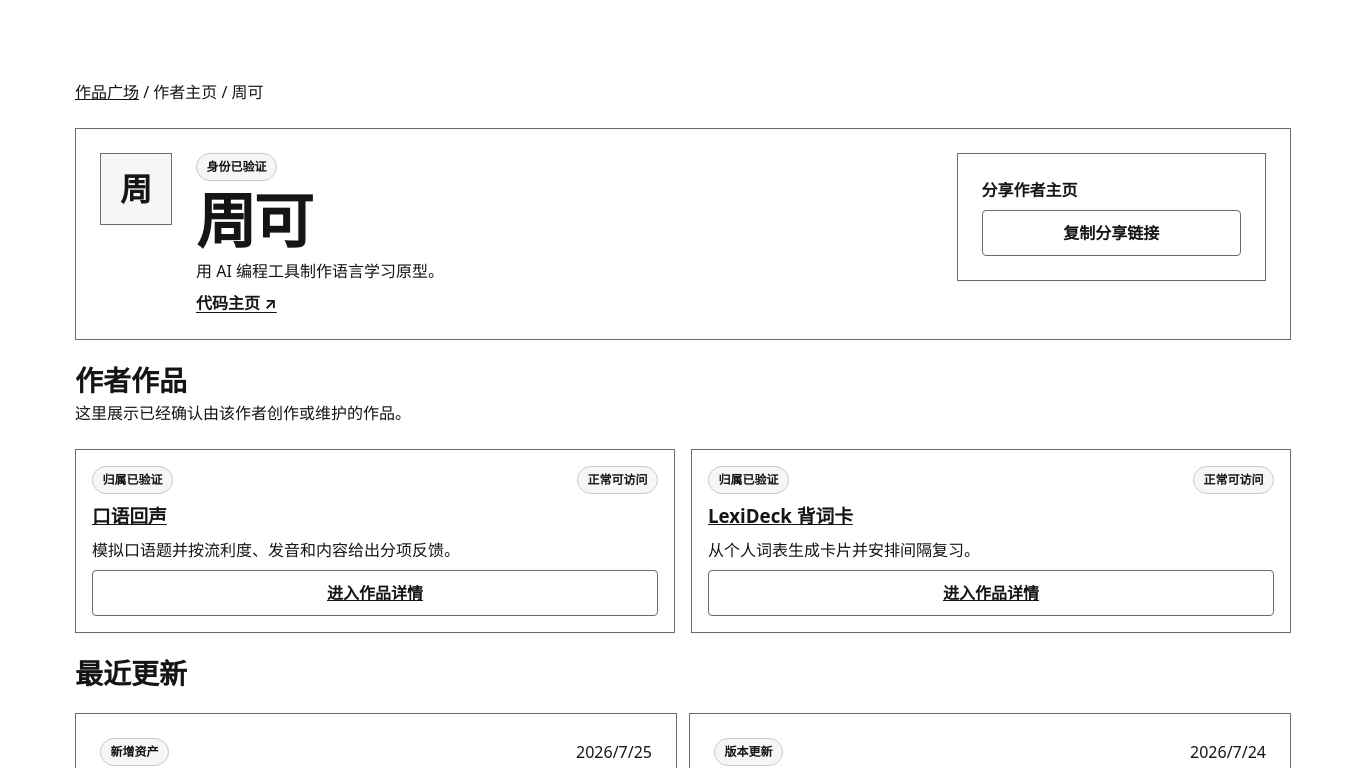
Test case: CreatorProfilePage › copies the author share URL with an explicit confirmation
The image size is (1366, 768).
Click the button "复制分享链接".
click(1111, 233)  # box [982,210,1241,256]
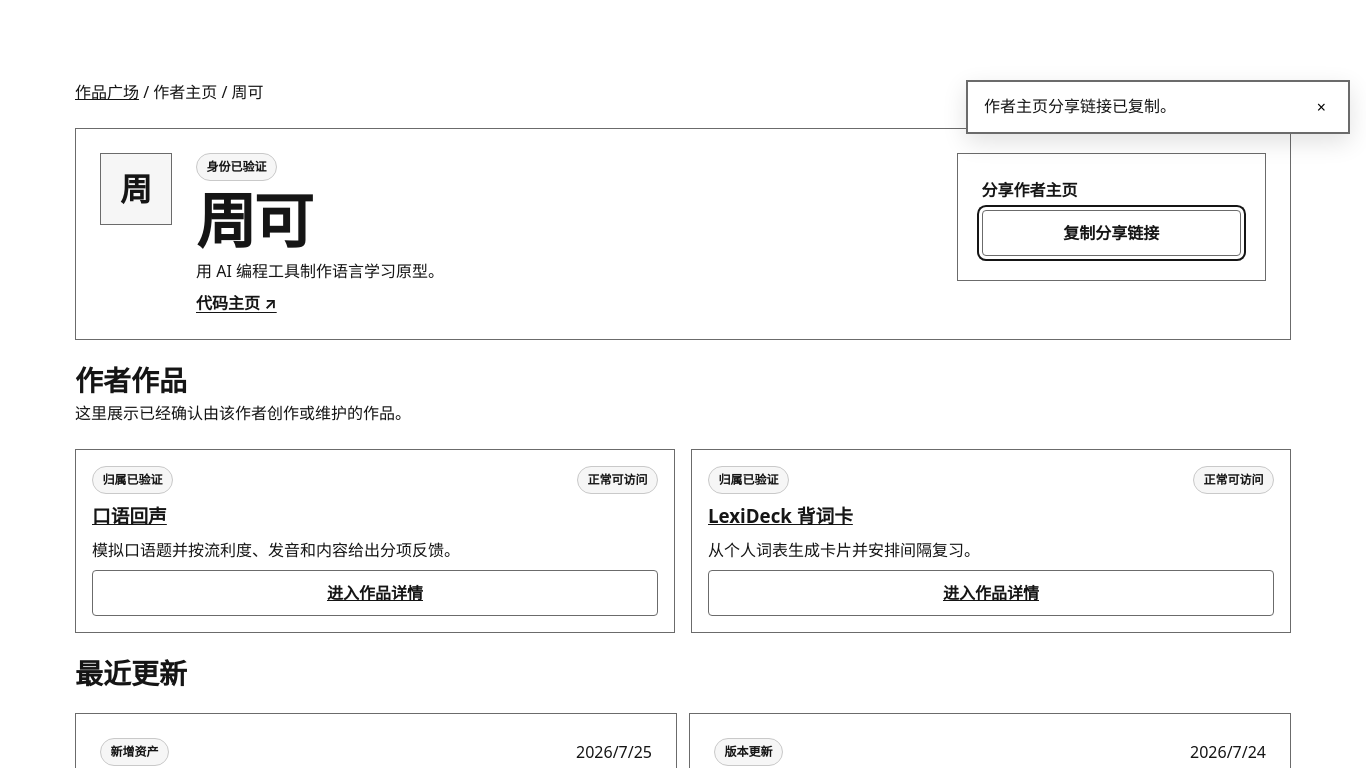
Check: the text "作者主页分享链接已复制。" is shown, box [984,94,1176,120]
